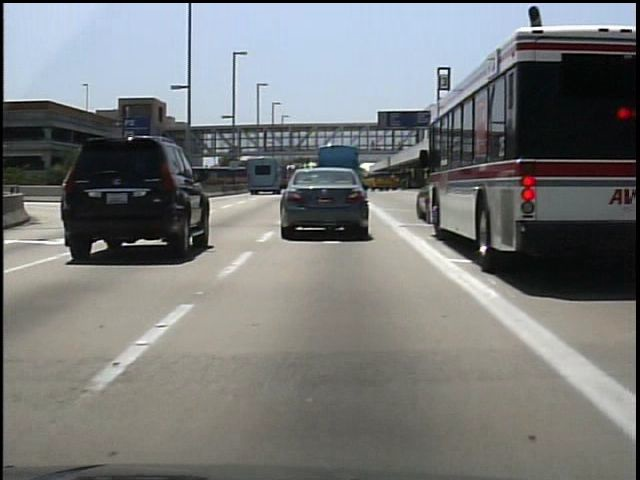person: (395, 135, 408, 157), (367, 137, 380, 157)
